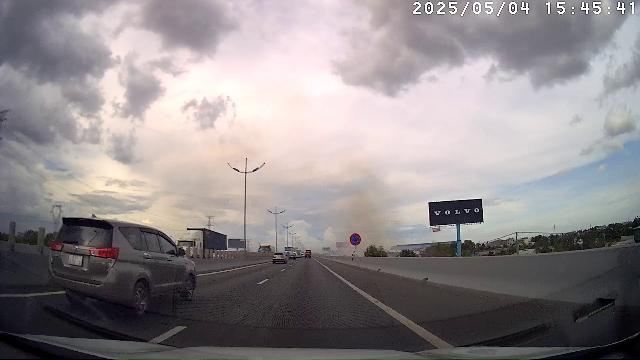130-cam-dung-va-do-xe: (349, 232, 361, 246)
